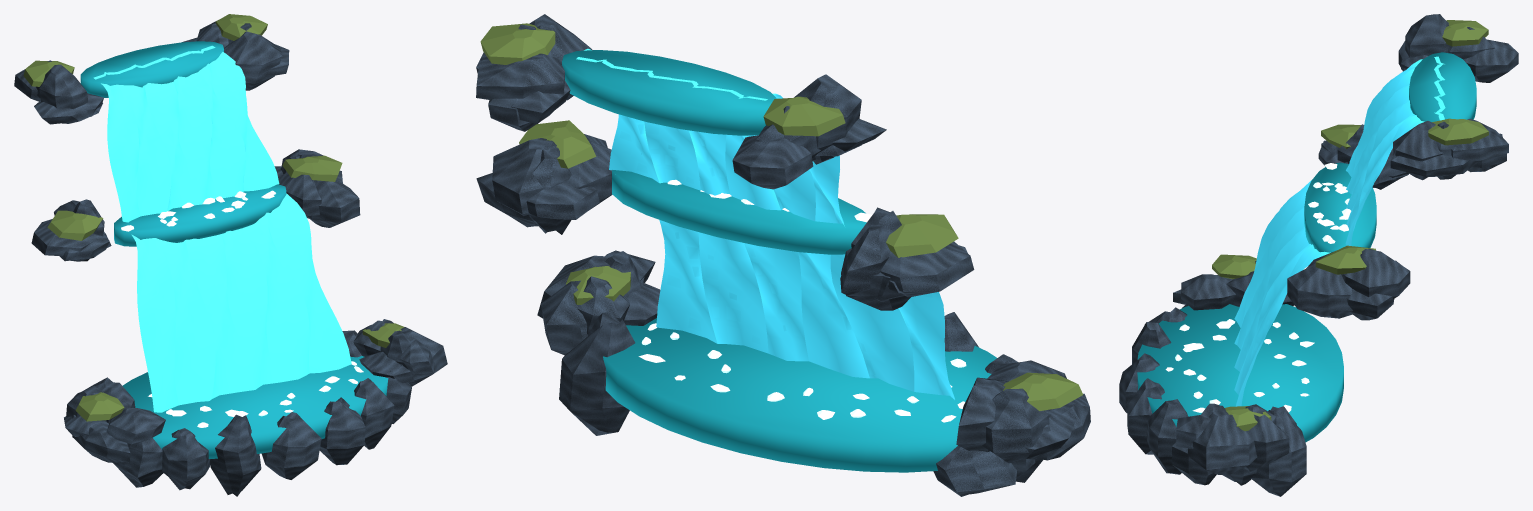
The model's file is terraced-cascade.glb.
The picture shows the model from 3 angles, left to right: view 1: azimuth 30°, elevation 25°; view 2: azimuth 150°, elevation 25°; view 3: azimuth 270°, elevation 25°; orthographic projection. The views are drawn at different scales.
Visible parts, largest first — view 1: terraced-cascade · Cascade flow, terraced-cascade · Wet blue slate, terraced-cascade · Deep turquoise pool, terraced-cascade · Streambank green, terraced-cascade · Aerated water; view 2: terraced-cascade · Deep turquoise pool, terraced-cascade · Wet blue slate, terraced-cascade · Cascade flow, terraced-cascade · Streambank green, terraced-cascade · Aerated water; view 3: terraced-cascade · Wet blue slate, terraced-cascade · Deep turquoise pool, terraced-cascade · Cascade flow, terraced-cascade · Streambank green, terraced-cascade · Aerated water.
Part boxes in pixels (box(x1,y1,x2,y2)): terraced-cascade · Cascade flow: box(93, 45, 351, 412); terraced-cascade · Wet blue slate: box(14, 21, 447, 496); terraced-cascade · Deep turquoise pool: box(80, 41, 388, 458); terraced-cascade · Streambank green: box(23, 14, 404, 421); terraced-cascade · Aerated water: box(121, 190, 363, 427); terraced-cascade · Deep turquoise pool: box(562, 50, 996, 472); terraced-cascade · Wet blue slate: box(476, 14, 1090, 496); terraced-cascade · Cascade flow: box(576, 48, 954, 399); terraced-cascade · Streambank green: box(480, 23, 1083, 411); terraced-cascade · Aerated water: box(638, 179, 966, 422); terraced-cascade · Wet blue slate: box(1119, 14, 1518, 496); terraced-cascade · Deep turquoise pool: box(1137, 52, 1476, 442); terraced-cascade · Cascade flow: box(1234, 56, 1445, 406); terraced-cascade · Streambank green: box(1212, 20, 1488, 431); terraced-cascade · Aerated water: box(1165, 163, 1351, 412).
Bounding box in the file's own units: 9.22 × 8.4 × 8.28.
5 materials, 1 textured.
